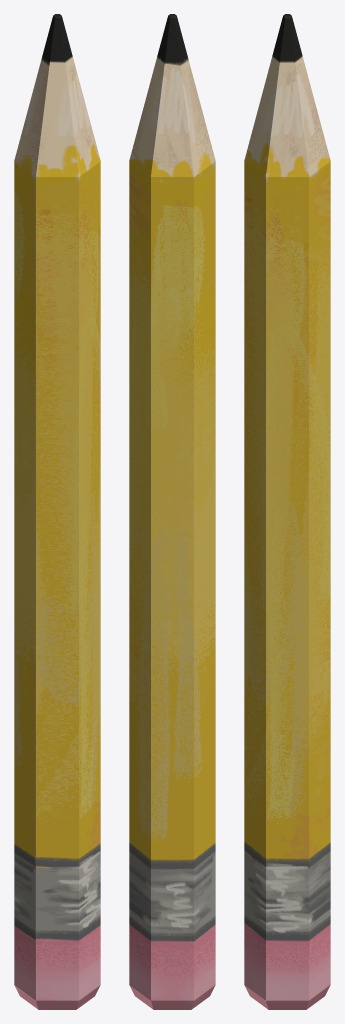
The model's file is peanuscil.glb.
3 renders of one model, left to right at view 1: azimuth 30°, elevation 25°; view 2: azimuth 150°, elevation 25°; view 3: azimuth 330°, elevation 25°, orthographic.
Parts seen in each view (by area): view 1: Cylinder.001; view 2: Cylinder.001; view 3: Cylinder.001.
Part boxes in pixels (left/top/right/bottom): Cylinder.001: left=14, top=14, right=100, bottom=1009; Cylinder.001: left=129, top=14, right=215, bottom=1009; Cylinder.001: left=244, top=14, right=330, bottom=1009.
Bounding box in the file's own units: 0.0173 × 0.2498 × 0.02.
Materials: 2 (2 with a texture image).
